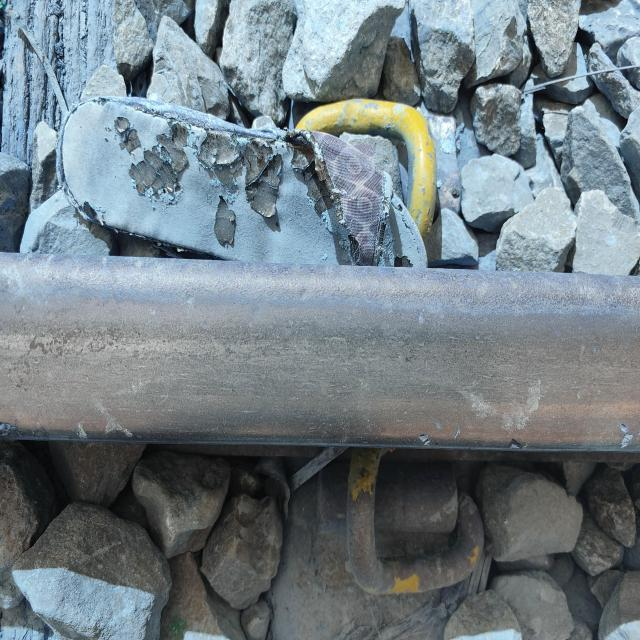Good Fasteners: (313, 449, 484, 594), (298, 99, 436, 240)
